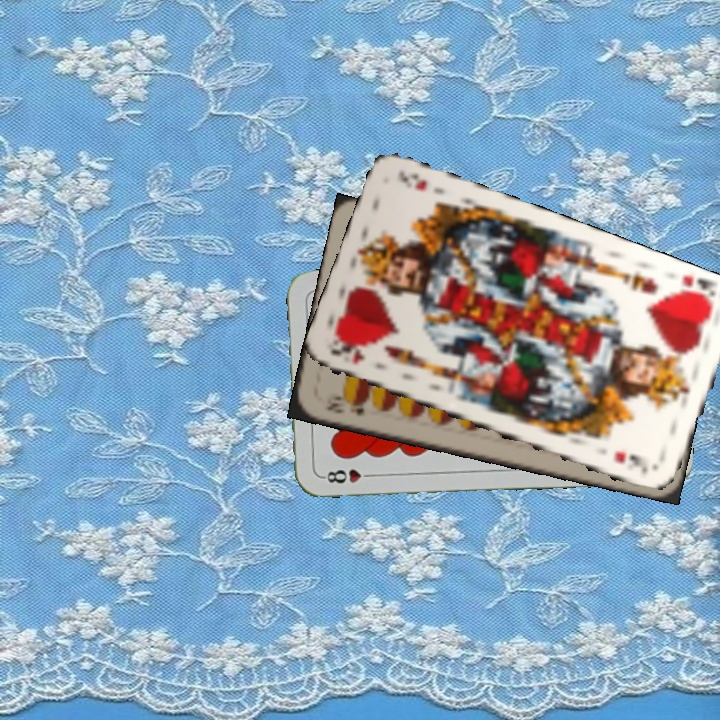E10: (322, 392, 368, 418)
H8: (318, 465, 377, 487)
HK: (667, 270, 719, 308), (327, 337, 368, 367)
